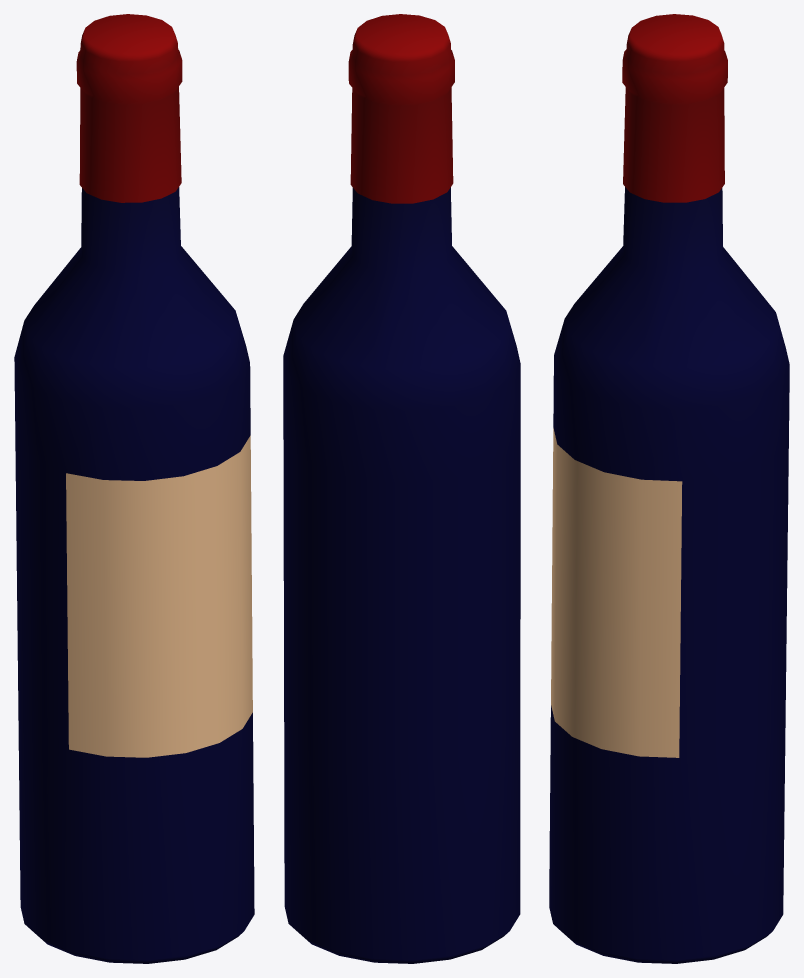
File: consumables-drinks-winebottle_v2.fbx
3 views of the same model, side by side, from view 1: azimuth 30°, elevation 25°; view 2: azimuth 150°, elevation 25°; view 3: azimuth 270°, elevation 25° (orthographic).
Parts seen in each view (by area): view 1: WineBottle_v2_refl, WineBottle_v2_color; view 2: WineBottle_v2_refl, WineBottle_v2_color; view 3: WineBottle_v2_refl, WineBottle_v2_color.
Part boxes in pixels (x1=…): WineBottle_v2_refl: x1=14, y1=187, x2=254, y2=963; WineBottle_v2_color: x1=66, y1=14, x2=252, y2=757; WineBottle_v2_refl: x1=283, y1=187, x2=520, y2=963; WineBottle_v2_color: x1=348, y1=14, x2=454, y2=203; WineBottle_v2_refl: x1=549, y1=187, x2=789, y2=963; WineBottle_v2_color: x1=551, y1=14, x2=727, y2=757.
Bounding box in the file's own units: 0.1173 × 0.4809 × 0.1189.
